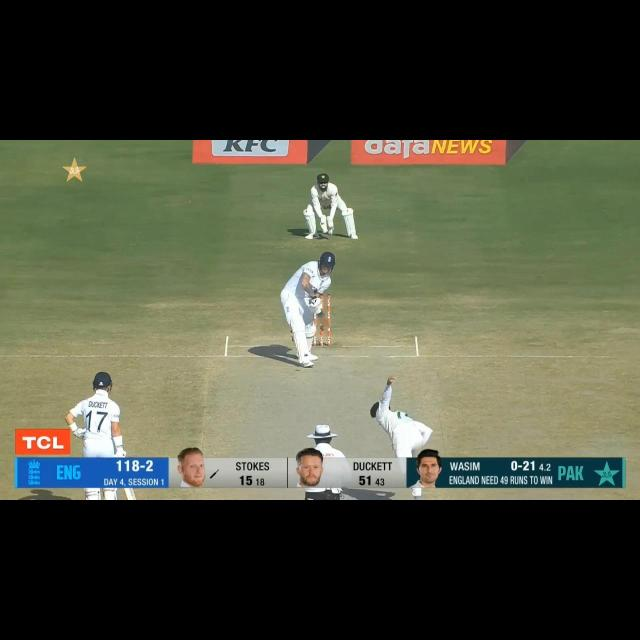bat: (314, 310, 330, 331), (123, 486, 136, 500)
toe: (320, 320, 330, 333), (124, 490, 135, 500)
